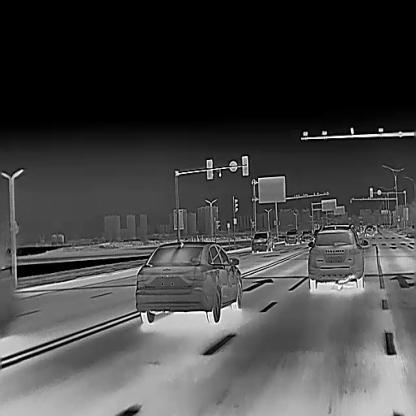car: (134, 240, 243, 322), (306, 222, 369, 289), (250, 230, 274, 252), (284, 229, 298, 245), (299, 229, 313, 245), (364, 225, 374, 238), (371, 223, 377, 234)
